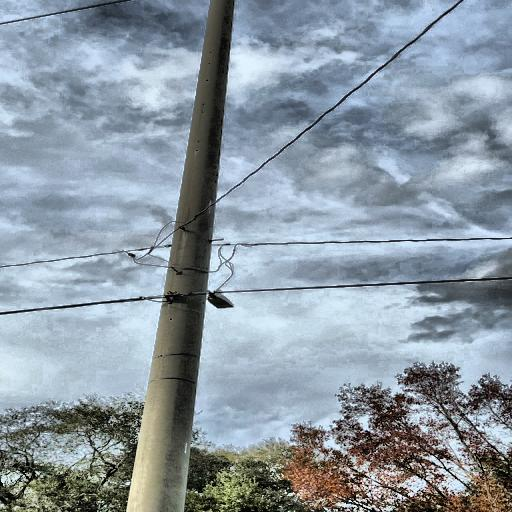pole: (88, 0, 262, 512)
